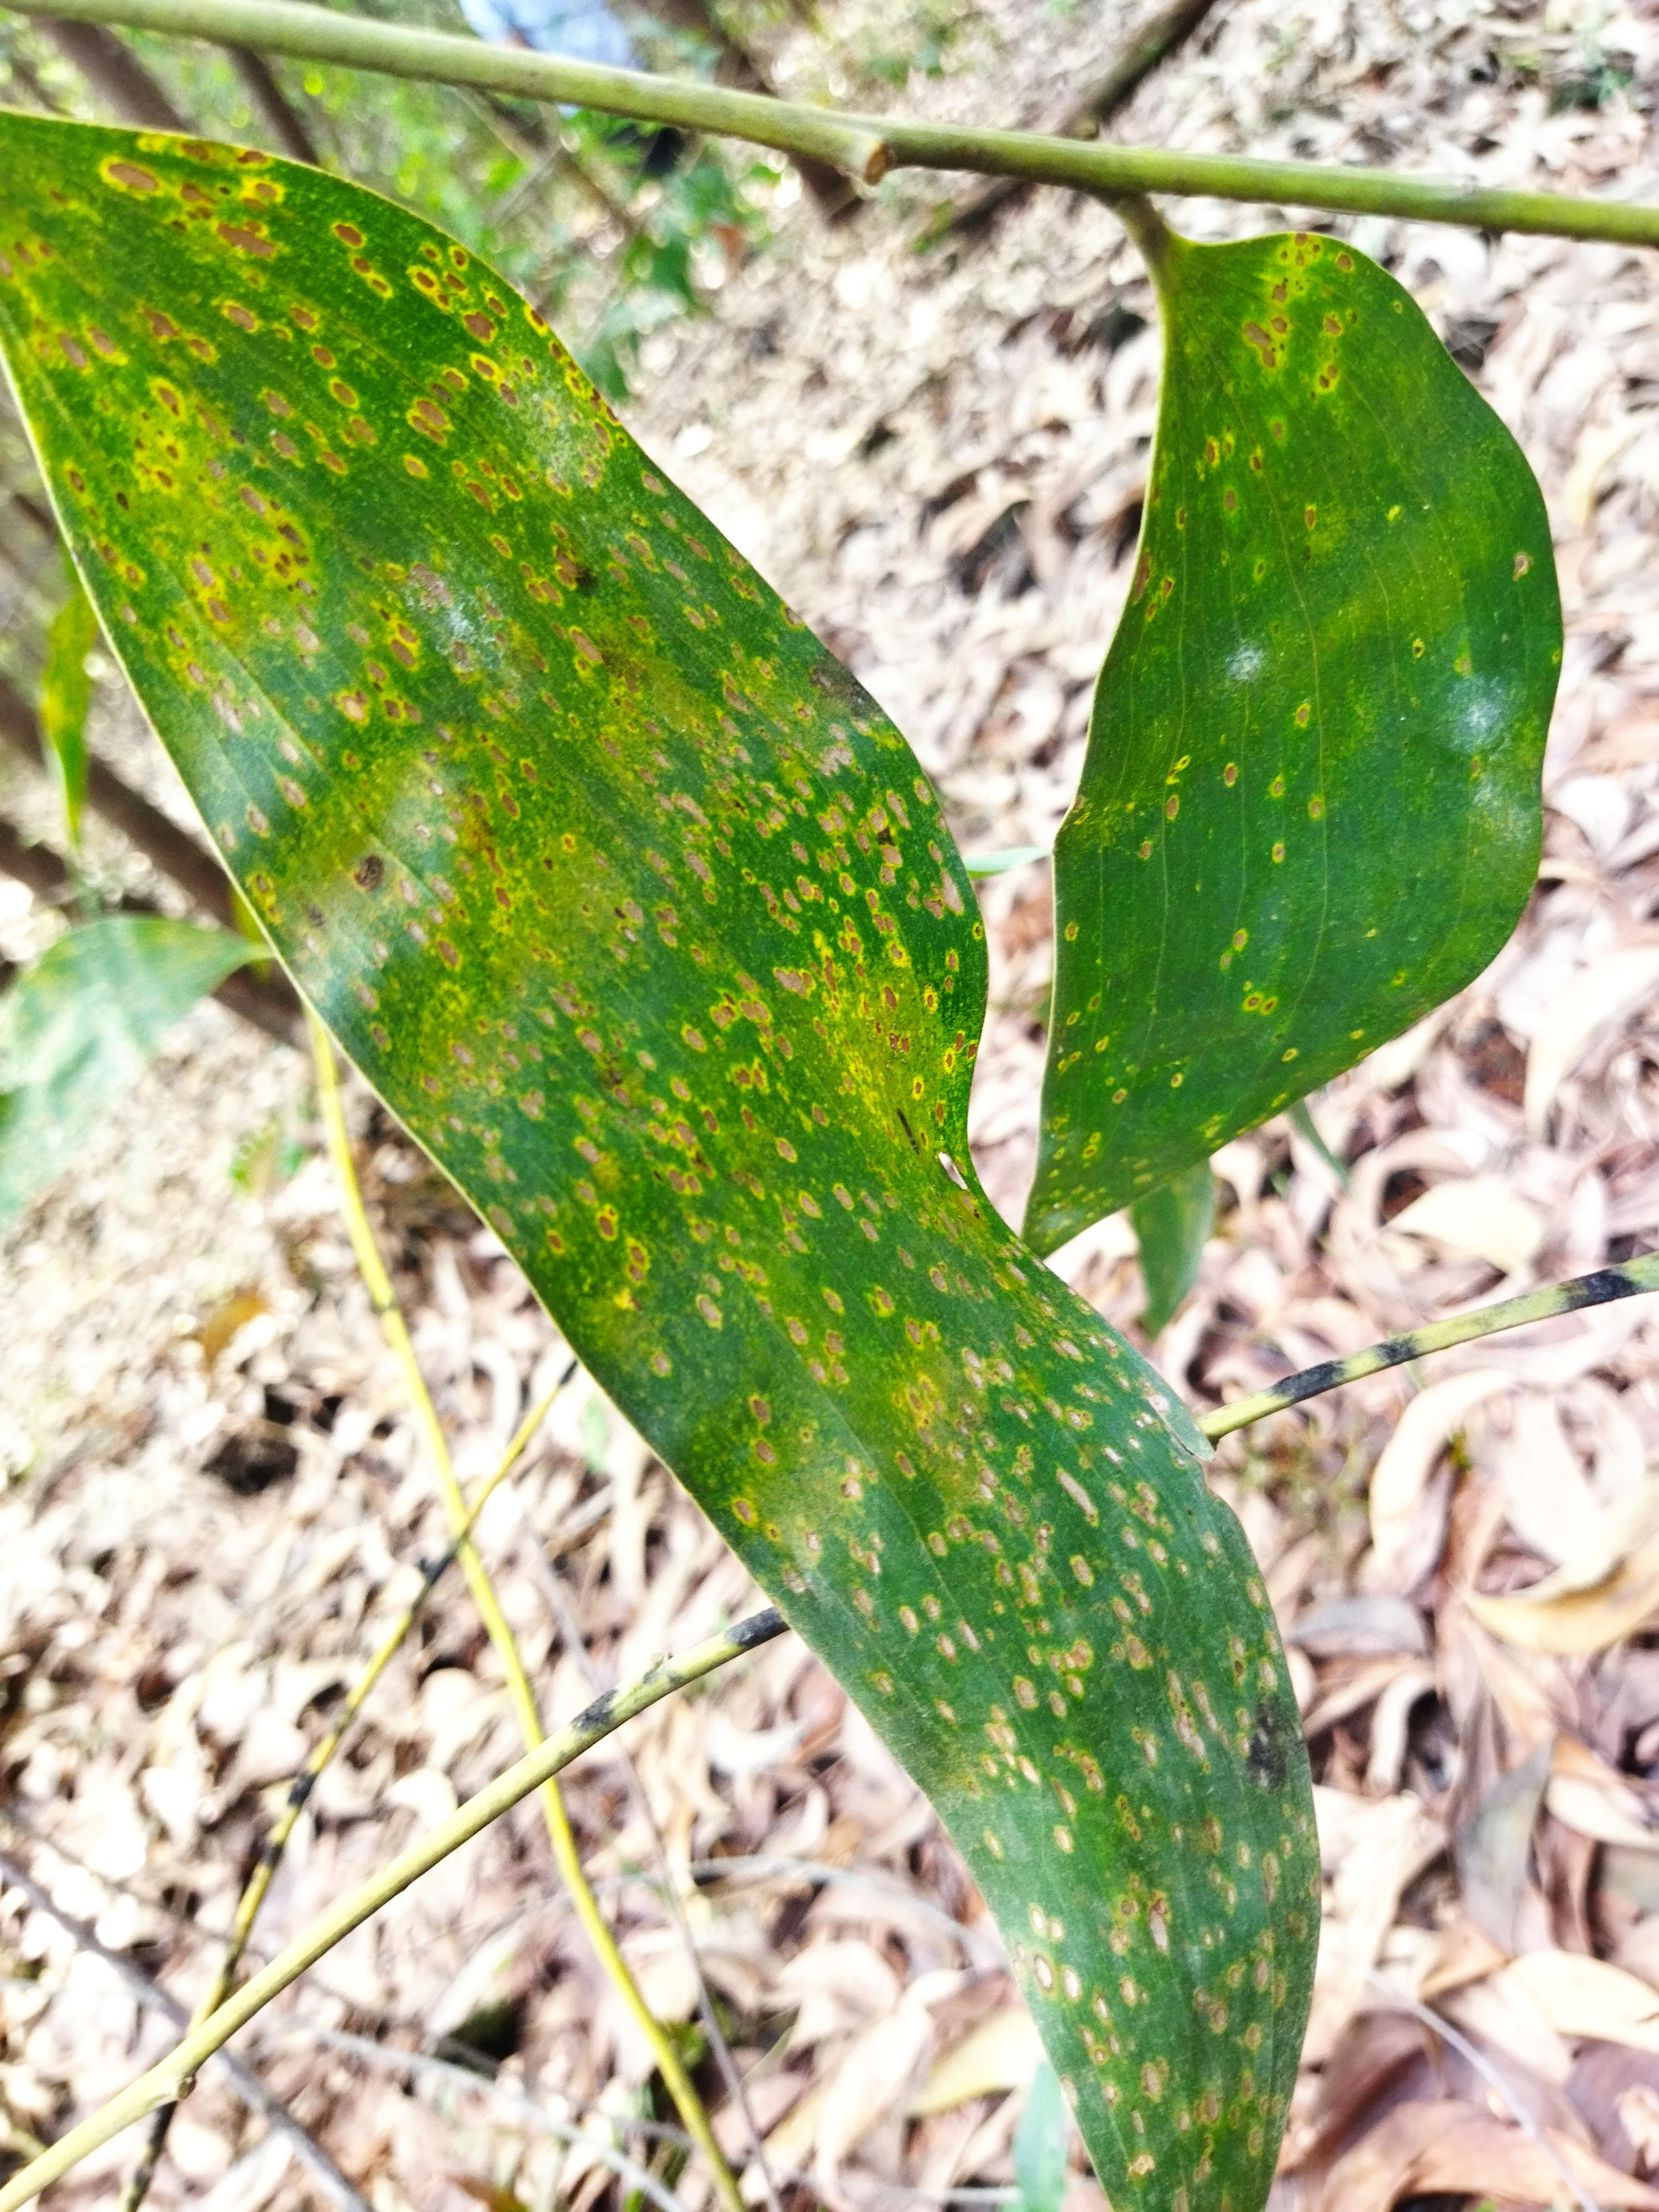Xanthomonas: (0, 145, 1265, 2212)
